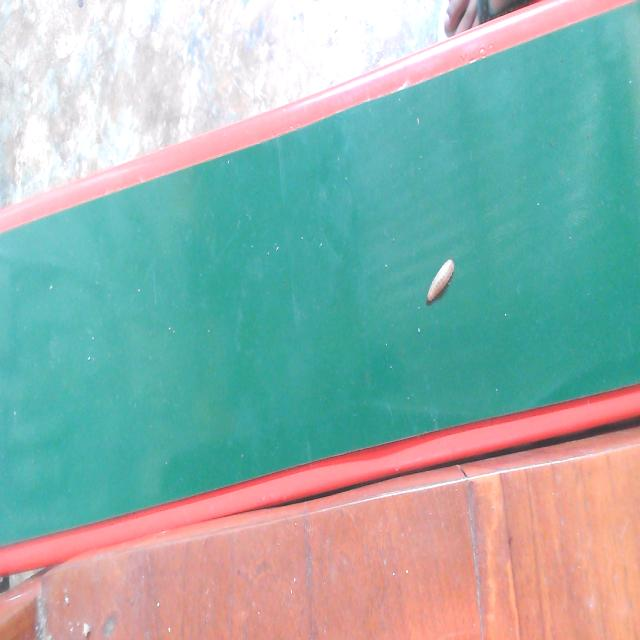Maggot: (426, 260, 457, 306)
